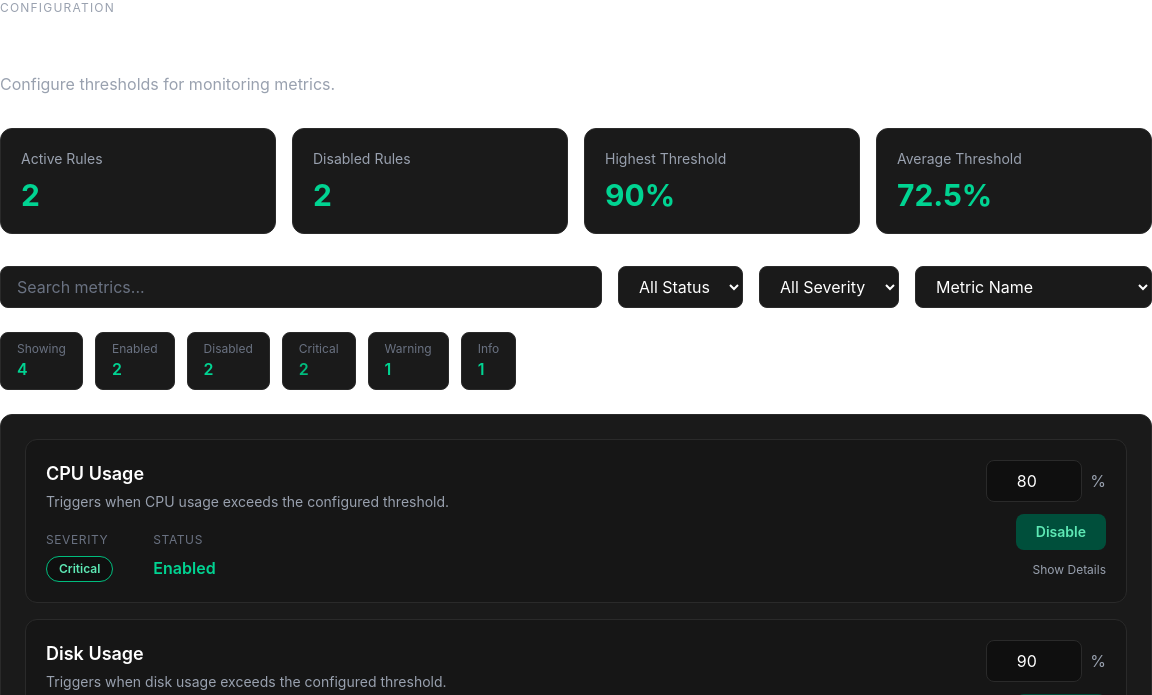
Test case: AlertRules page › shows an empty result when the search has no matches
The image size is (1152, 695).
Expected: the heading "CPU Usage" is shown, [46,463,144,484]
Type "nonexistent_metric" into the field with placeholder "Search metrics..." at [301, 287], box [0,266,602,308]
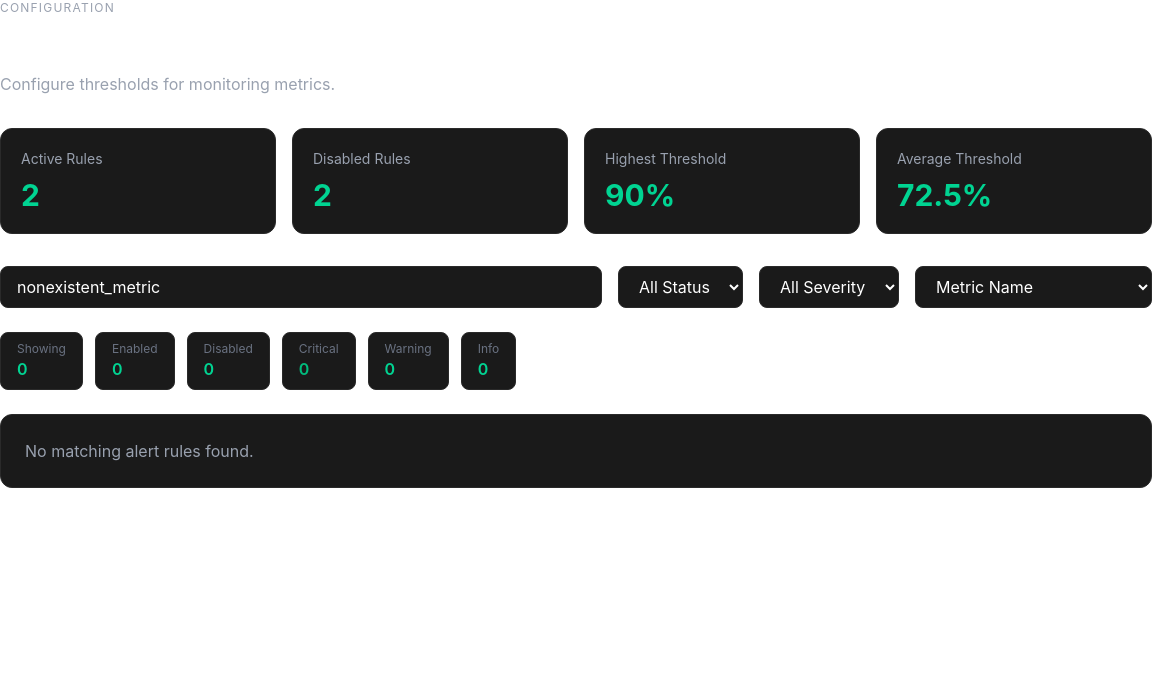
Expected: the text "No matching alert rules found." is shown, [25,441,254,461]
